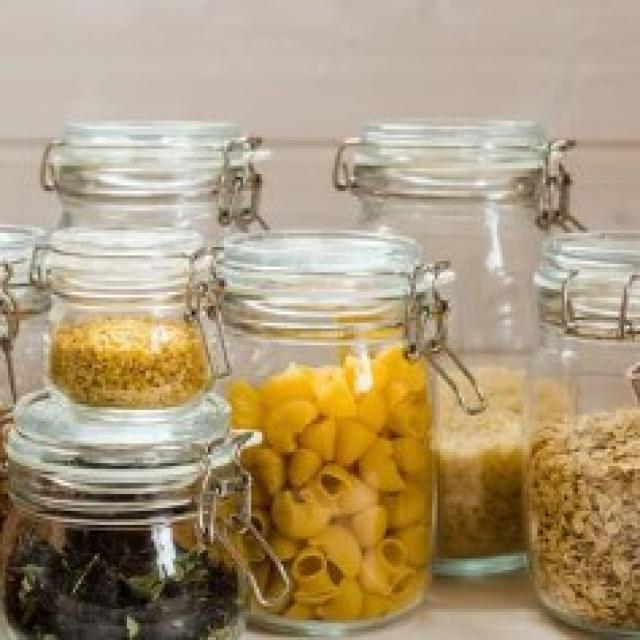electronic: (0, 110, 640, 631)
